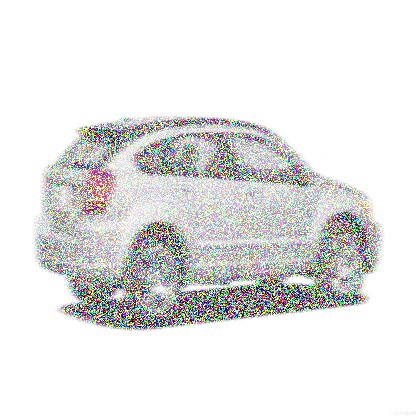Vehicle: (37, 117, 380, 324)
